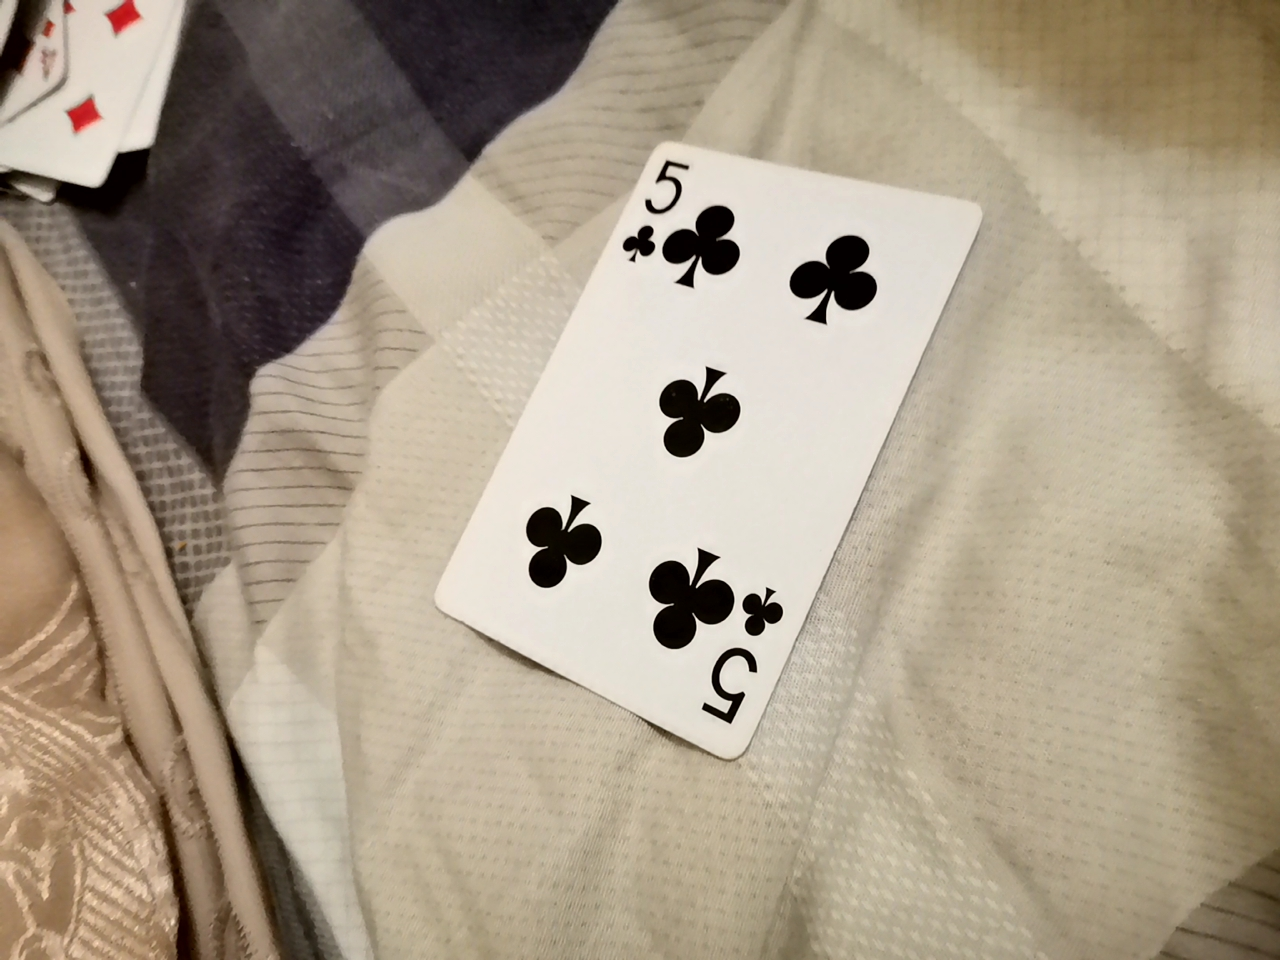mh 5: (412, 137, 968, 771)
